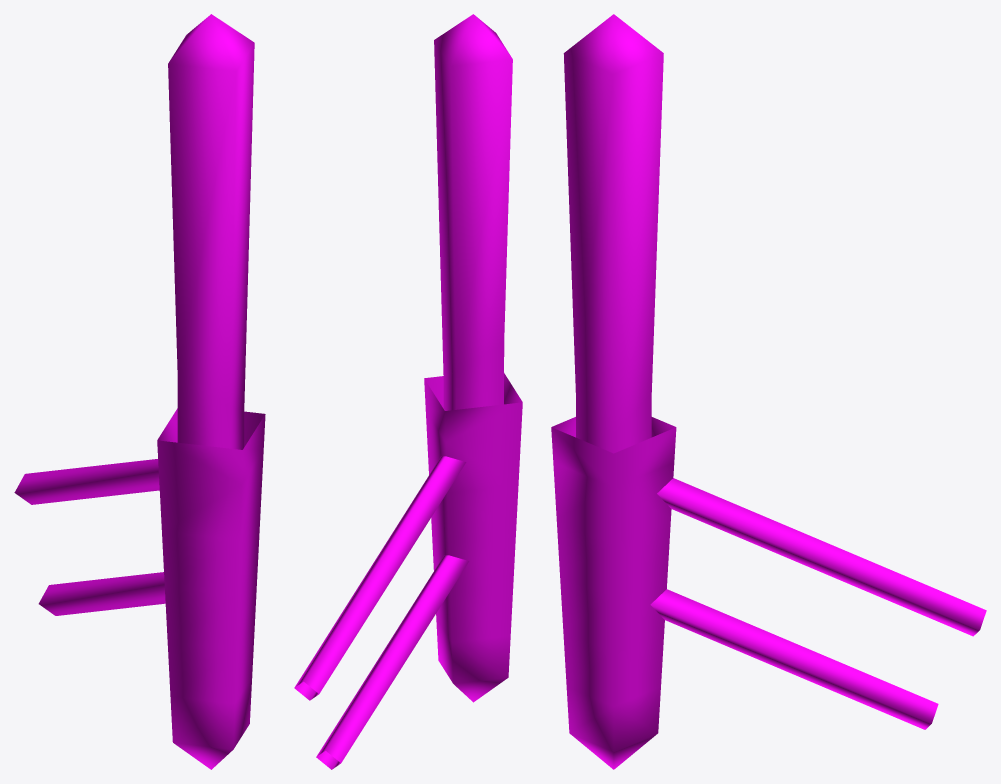
The picture shows the model from 3 angles, left to right: view 1: azimuth 30°, elevation 25°; view 2: azimuth 150°, elevation 25°; view 3: azimuth 270°, elevation 25°; orthographic projection. The views are drawn at different scales.
Visible parts, largest first — view 1: torch; view 2: torch; view 3: torch.
Boxes of the visible parts, <box> form: torch: <box>14,14,265,769</box>; torch: <box>294,14,522,769</box>; torch: <box>551,14,986,769</box>.
Size of the model in its own units: 0.00625 by 0.0417 by 0.0218.
